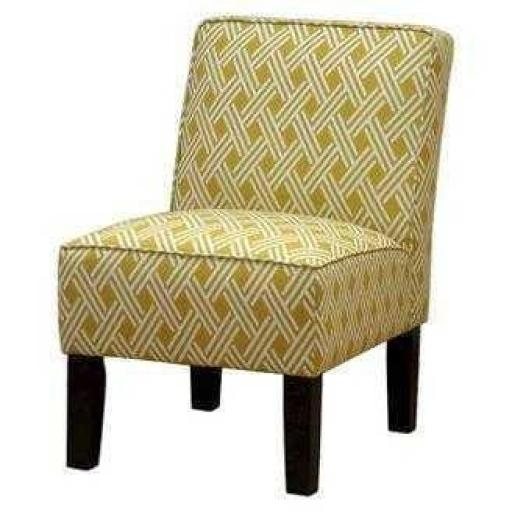chair: (51, 14, 459, 495)
